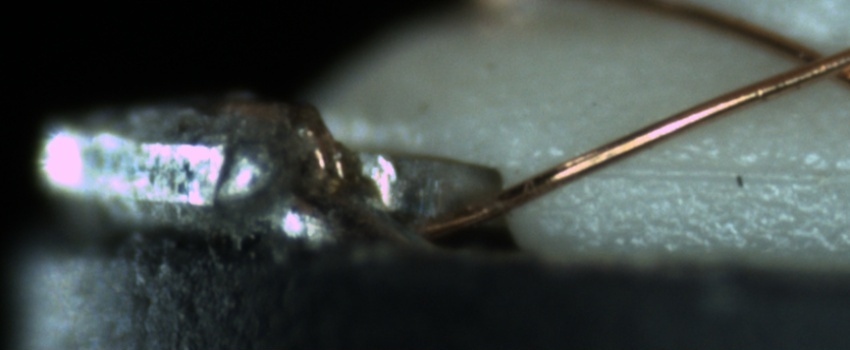CL: (766, 31, 850, 92)
DL: (577, 144, 850, 208)
TE: (286, 102, 356, 188)
